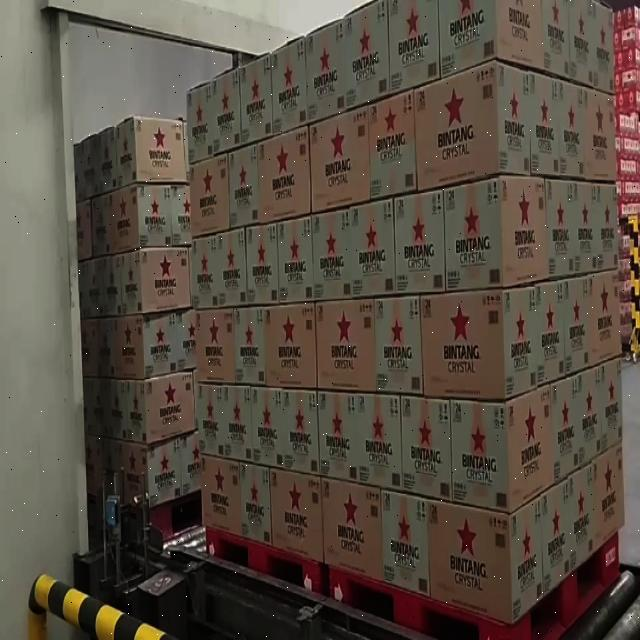pallet: (324, 0, 624, 640), (184, 34, 328, 629), (66, 94, 208, 548)
